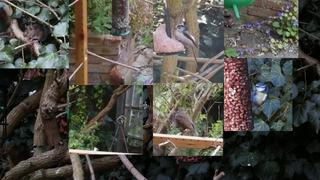blue tit: (248, 82, 268, 112)
long tailed tit: (174, 24, 200, 74)
mouse: (23, 24, 45, 45)
starling: (175, 107, 199, 137)
